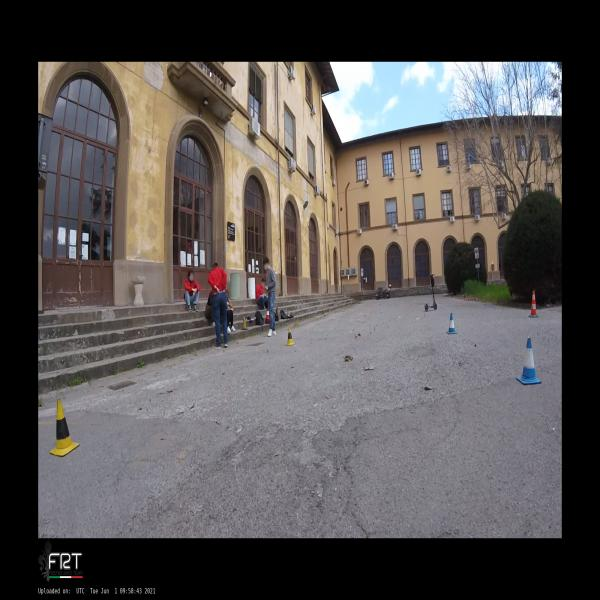blue_cone: (516, 337, 542, 386), (446, 313, 458, 334)
large_orange_cone: (528, 290, 539, 318)
orange_cone: (266, 308, 270, 324)
unknown_cone: (241, 316, 248, 330), (275, 306, 279, 321)
yellow_cone: (49, 399, 80, 457), (285, 327, 296, 346)
